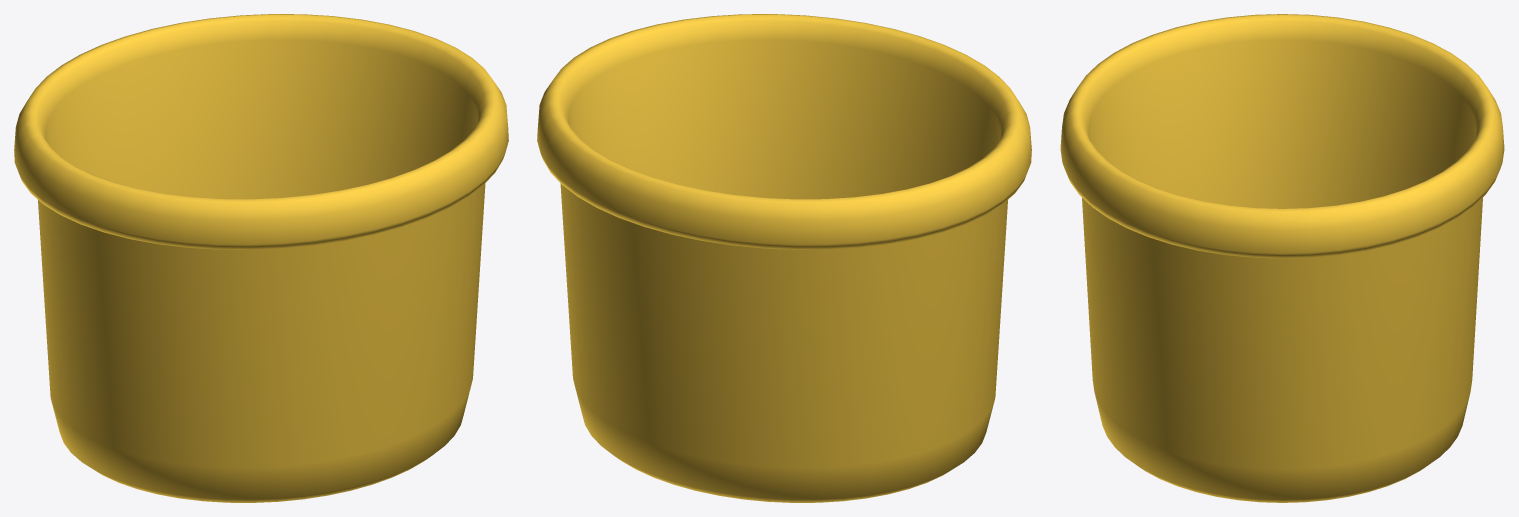
File: wash_basin__v01.glb
The picture shows the model from 3 angles, left to right: view 1: azimuth 30°, elevation 25°; view 2: azimuth 150°, elevation 25°; view 3: azimuth 270°, elevation 25°; orthographic projection. The views are drawn at different scales.
Visible parts, largest first — view 1: wash_basin; view 2: wash_basin; view 3: wash_basin.
Part boxes in pixels (x1=…): wash_basin: x1=14, y1=14, x2=508, y2=502; wash_basin: x1=537, y1=14, x2=1031, y2=502; wash_basin: x1=1060, y1=14, x2=1504, y2=502.
Bounding box in the file's own units: 0.2 × 0.14 × 0.18.
